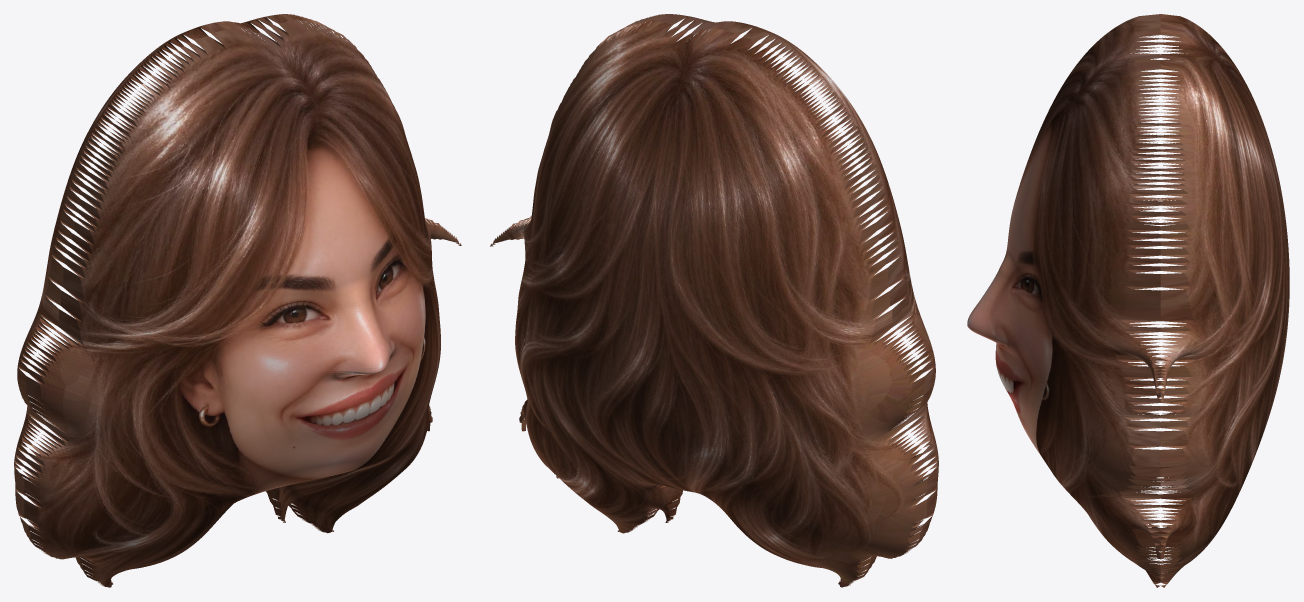
The model's file is head2.glb.
The picture shows the model from 3 angles, left to right: view 1: azimuth 30°, elevation 25°; view 2: azimuth 150°, elevation 25°; view 3: azimuth 270°, elevation 25°; orthographic projection. The views are drawn at different scales.
Parts seen in each view (by area): view 1: head_front, head_back; view 2: head_back, head_front; view 3: head_front, head_back.
Part boxes in pixels (x1,y1,x2,y2): head_front: (20,19,461,587); head_back: (14,14,437,575); head_back: (490,20,931,587); head_front: (513,14,938,576); head_front: (967,14,1160,587); head_back: (1160,14,1289,587).
Bounding box in the file's own units: 0.2614 × 0.3 × 0.1716.
2 materials, 2 textured.
